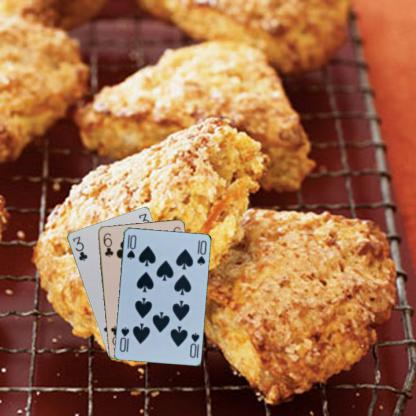10s: (187, 330, 201, 359), (124, 232, 138, 260)
3c: (70, 234, 88, 262)
6c: (101, 230, 115, 258)
